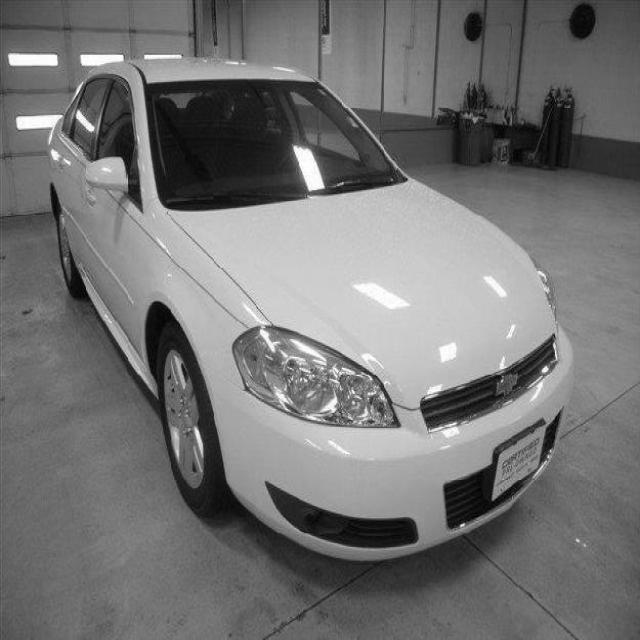car: (46, 55, 575, 563)
